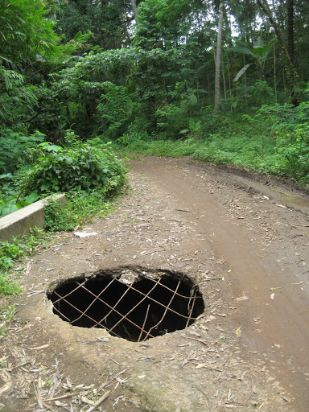pothole: (41, 260, 208, 345)
